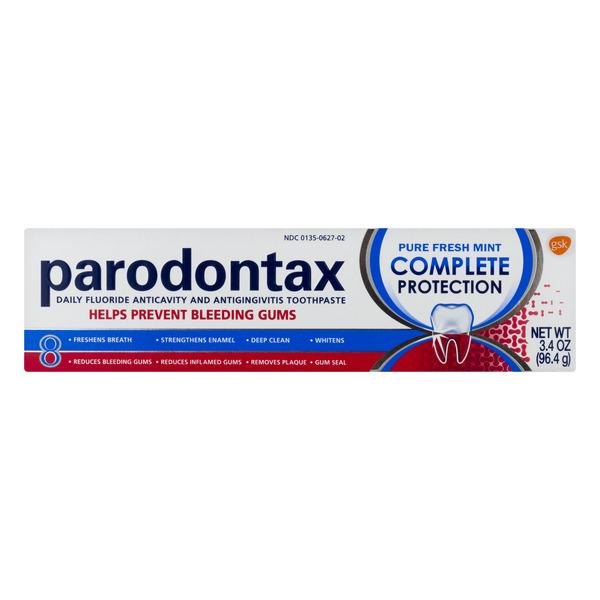toothpaste: (20, 223, 581, 377)
